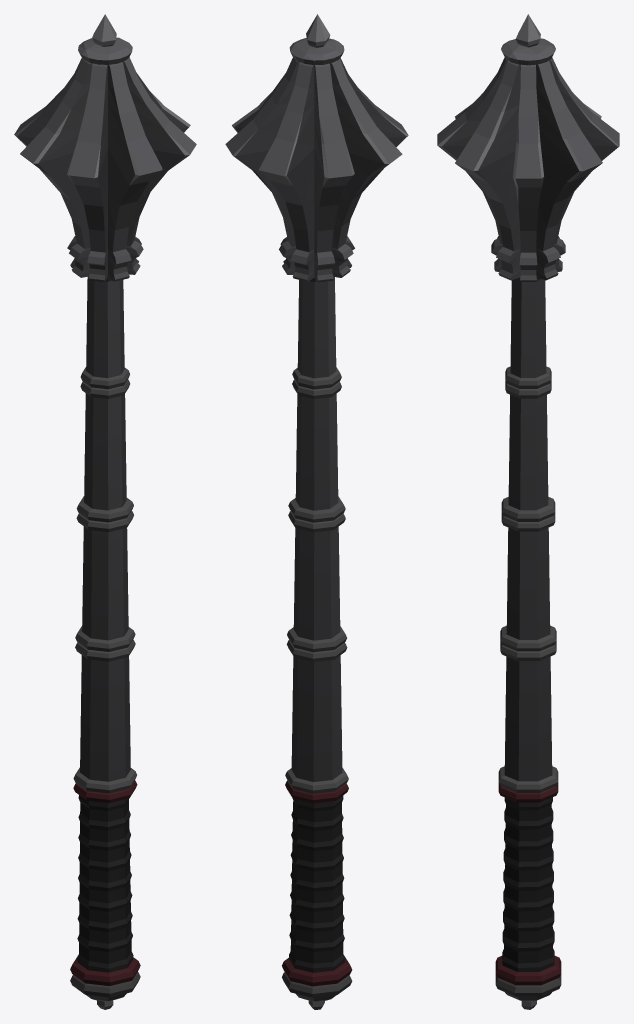
File: bluntLightMace.glb
The picture shows the model from 3 angles, left to right: view 1: azimuth 30°, elevation 25°; view 2: azimuth 150°, elevation 25°; view 3: azimuth 270°, elevation 25°; orthographic projection.
Visible parts, largest first — view 1: bluntLightMace; view 2: bluntLightMace; view 3: bluntLightMace.
Boxes of the visible parts, bbox=[...] form: bluntLightMace: bbox=[14, 14, 196, 1009]; bluntLightMace: bbox=[225, 14, 408, 1009]; bluntLightMace: bbox=[437, 14, 619, 1009].
Bounding box in the file's own units: 0.1497 × 0.9015 × 0.1497.
